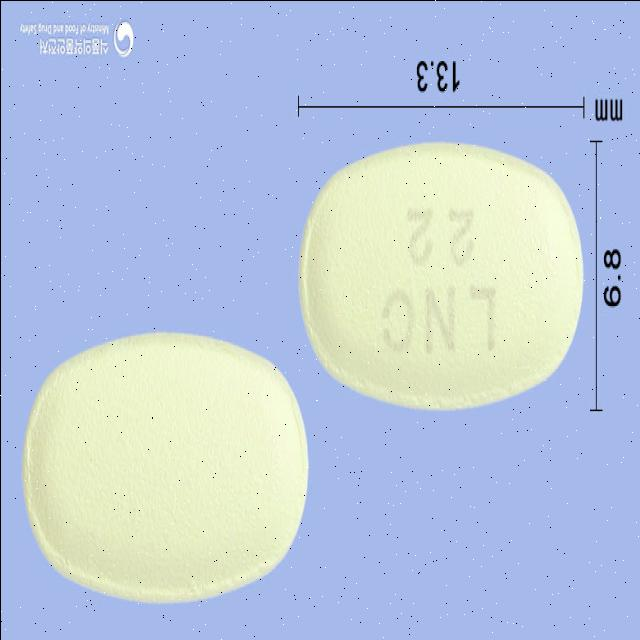Rithcinn Tab: (296, 142, 580, 410)
